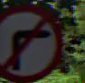Don't turn right: (1, 1, 66, 81)
